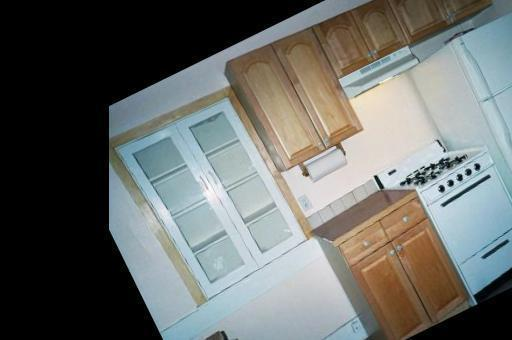Electrodomestico: (441, 7, 512, 252), (417, 156, 512, 295)
